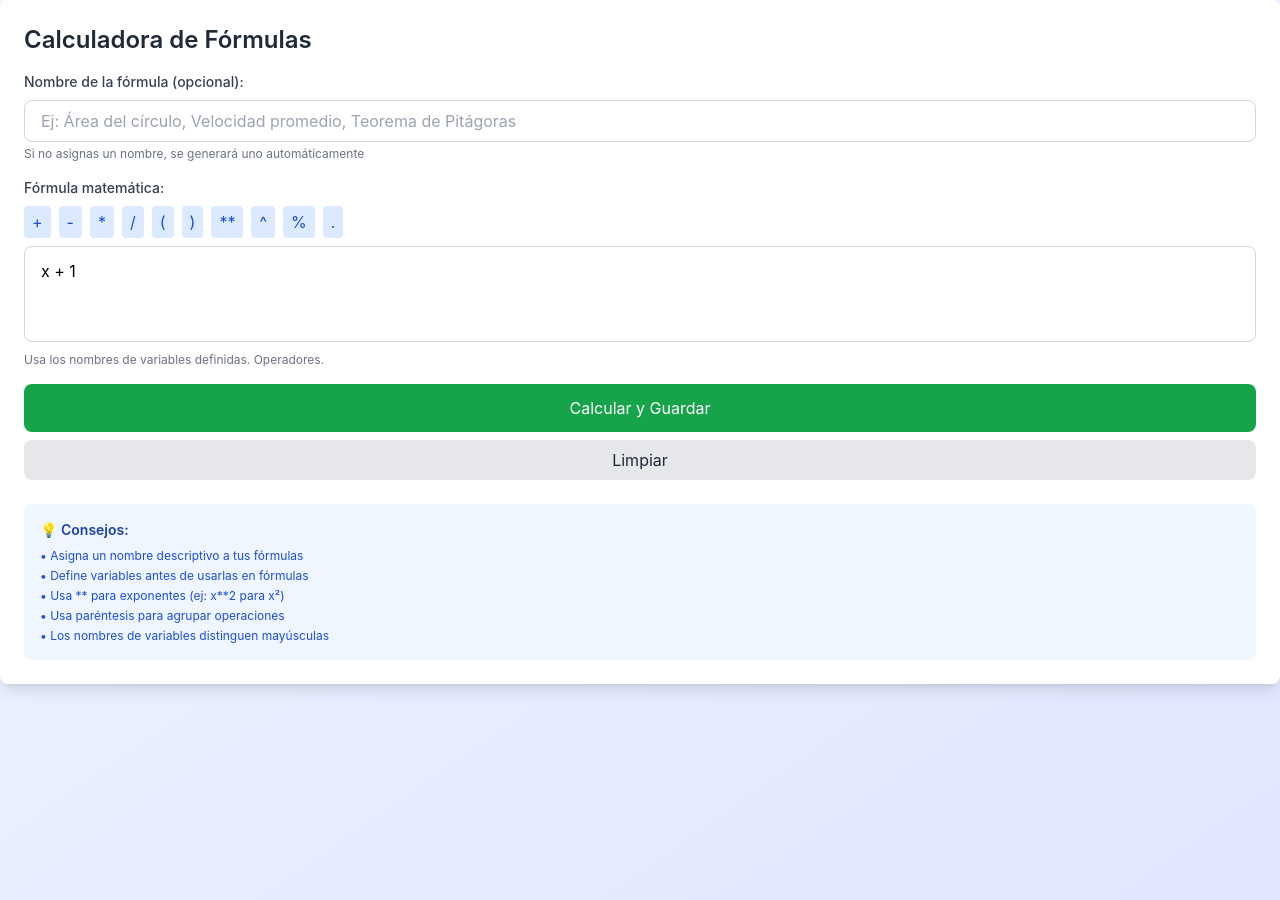
Test: limpia el input al hacer clic en Limpiar
The width and height of the screenshot is (1280, 900).
Expected: the text box with placeholder "Ej: x + y * 2, a^2 + b^2, (velocidad * tiempo) / 2" holds "x + 1", [24, 246, 1256, 342]
Click the button "Limpiar" at (640, 460), box [24, 440, 1256, 480]
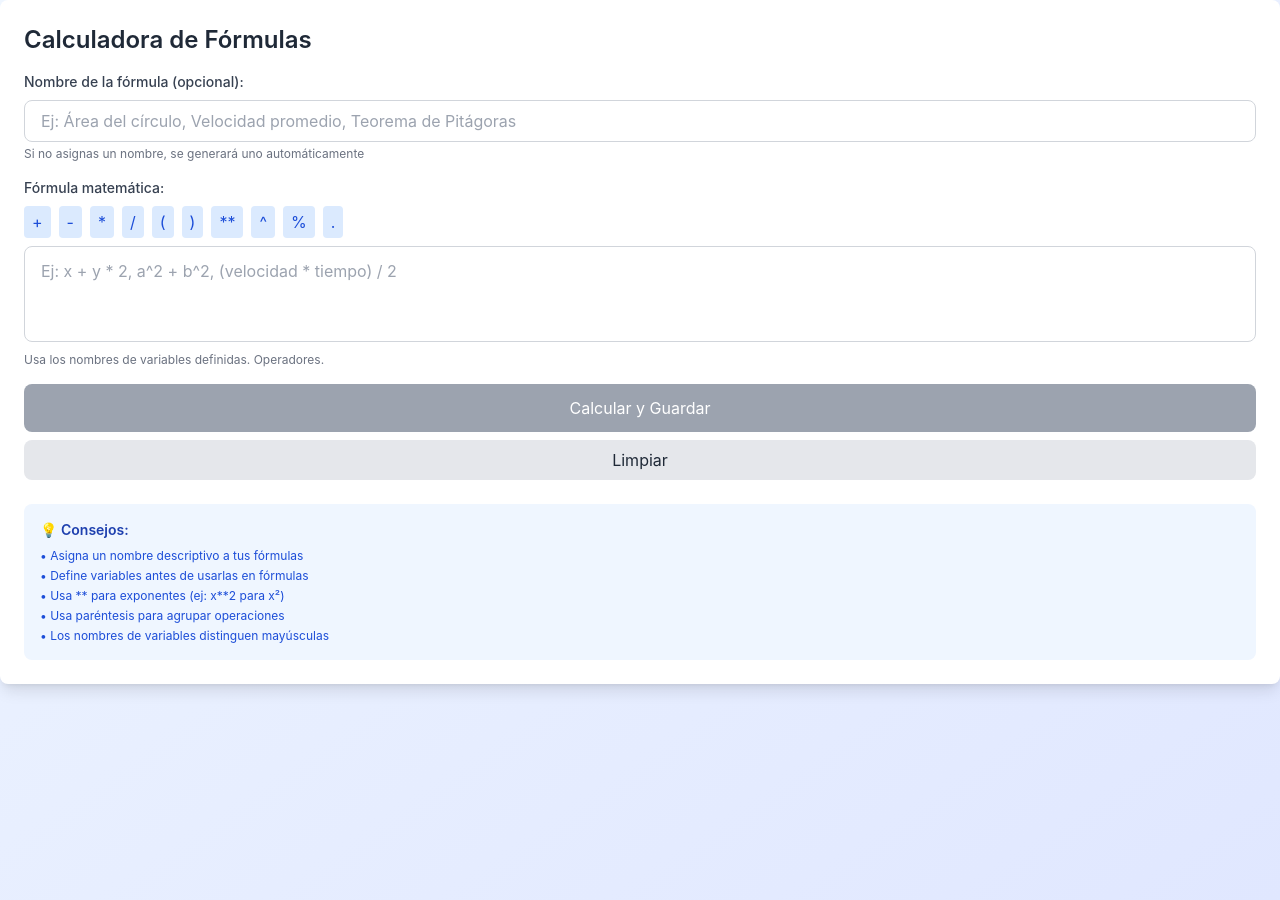
Expected: the text box with placeholder "Ej: x + y * 2, a^2 + b^2, (velocidad * tiempo) / 2" is empty, [24, 246, 1256, 342]
